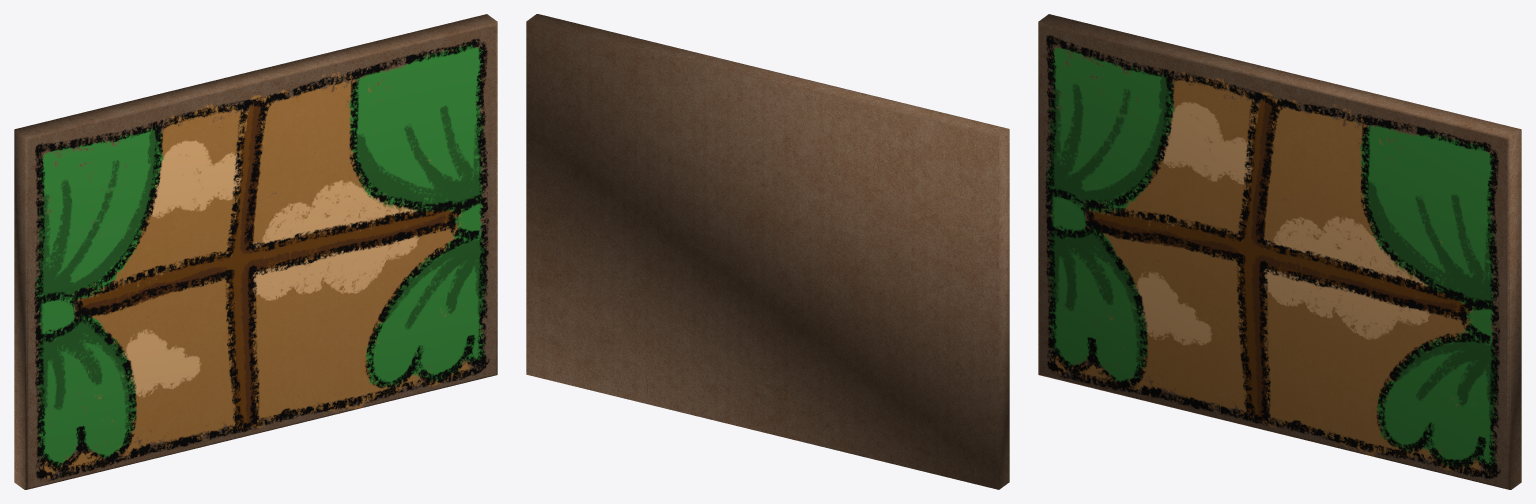
File: 20s_window2.fbx
3 views of the same model, side by side, from view 1: azimuth 30°, elevation 25°; view 2: azimuth 150°, elevation 25°; view 3: azimuth 330°, elevation 25° (orthographic).
Visible parts, largest first — view 1: 20s_window2; view 2: 20s_window2; view 3: 20s_window2.
Boxes of the visible parts, x1,y1,x2,y2 form: 20s_window2: (14, 14, 497, 489); 20s_window2: (526, 14, 1009, 489); 20s_window2: (1038, 14, 1521, 489).
Bounding box in the file's own units: 280 × 200 × 12.12.
